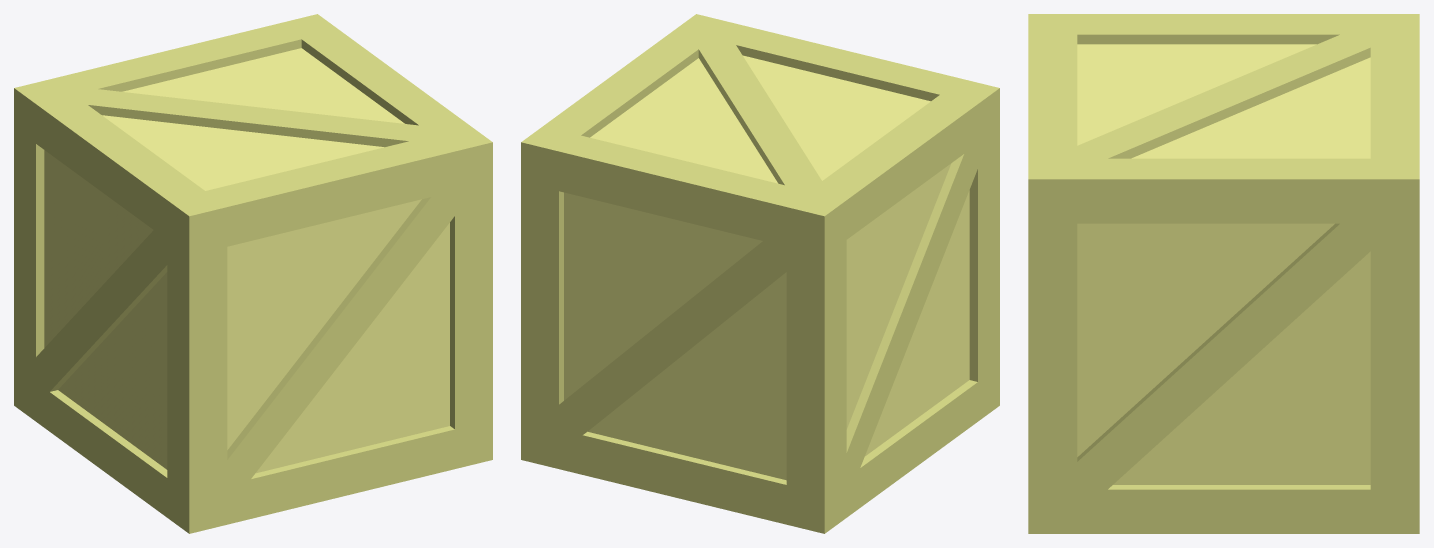
3 renders of one model, left to right at view 1: azimuth 30°, elevation 25°; view 2: azimuth 150°, elevation 25°; view 3: azimuth 270°, elevation 25°, orthographic. The views are drawn at different scales.
Parts seen in each view (by area): view 1: Box001; view 2: Box001; view 3: Box001.
Part boxes in pixels (x1,y1,x2,y2): Box001: (14,14,492,533); Box001: (521,14,999,533); Box001: (1028,14,1419,533).
Size of the model in its own units: 15.75 by 15.75 by 15.75.
